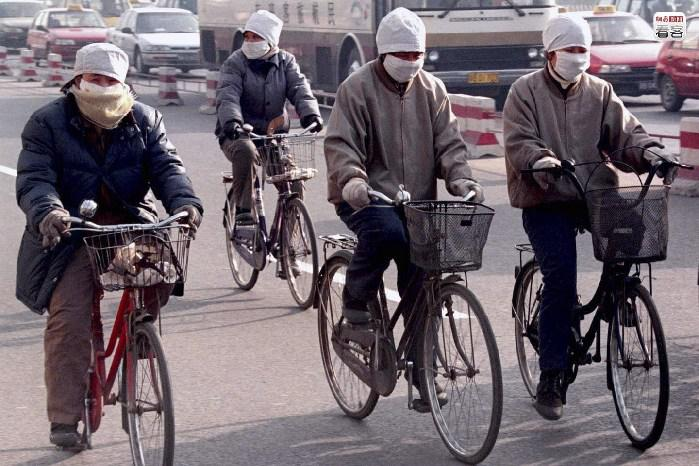OK: (78, 65, 130, 117), (554, 43, 590, 83), (388, 53, 422, 85), (246, 33, 273, 60)
